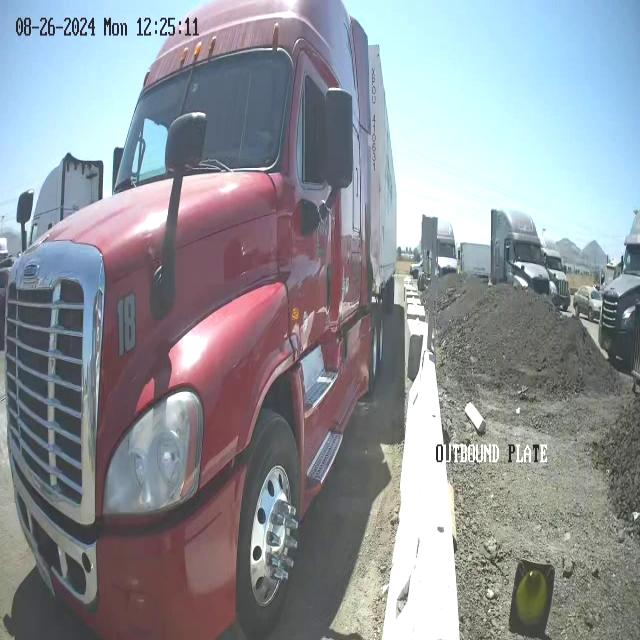TRUCK_CONTAINER: (2, 1, 397, 638)
